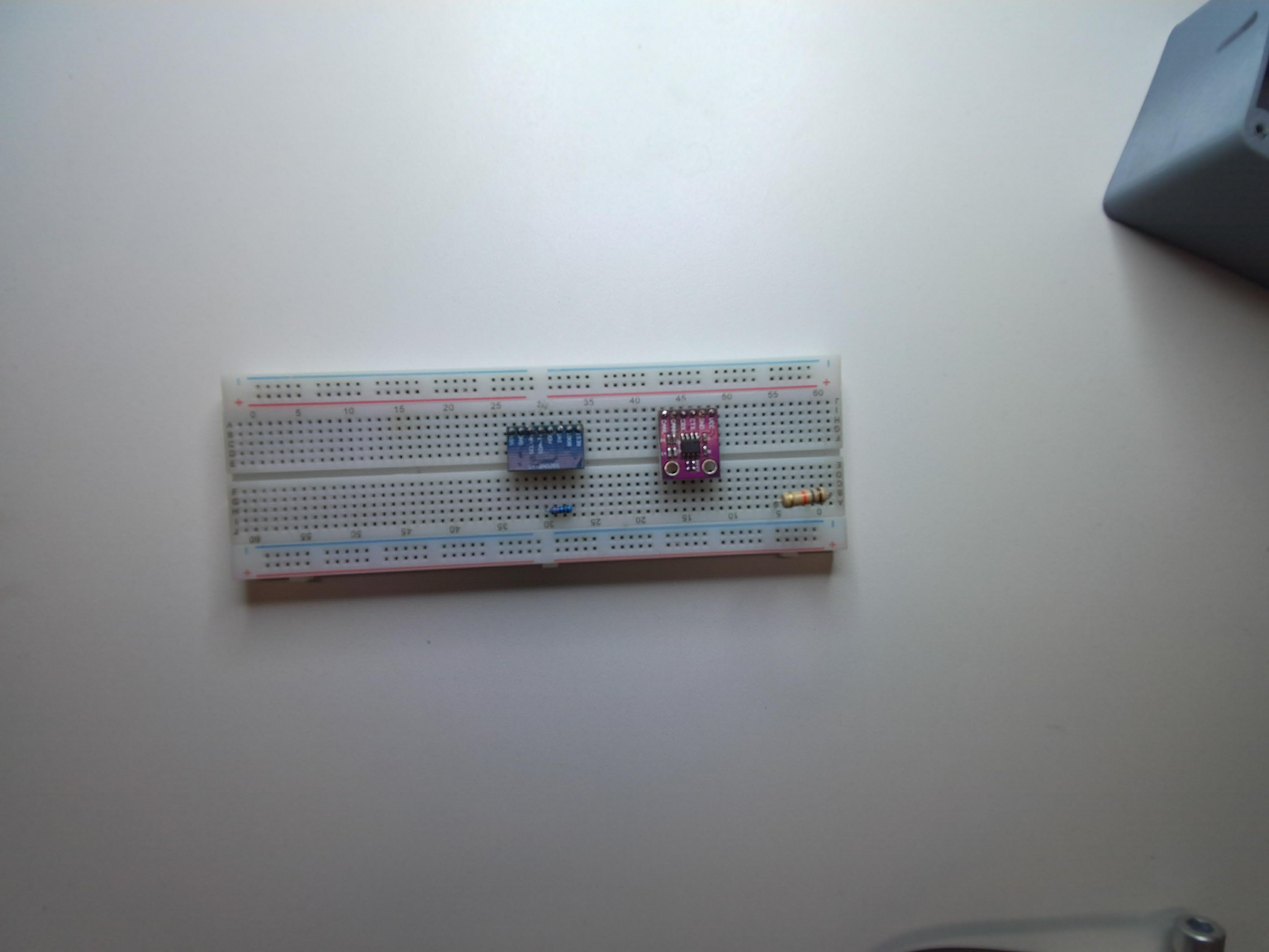base: (222, 359, 849, 594)
blue-board: (503, 422, 588, 478)
purple-board: (657, 405, 722, 489)
resistor-big: (781, 489, 831, 508)
resistor-small: (547, 501, 573, 521)
